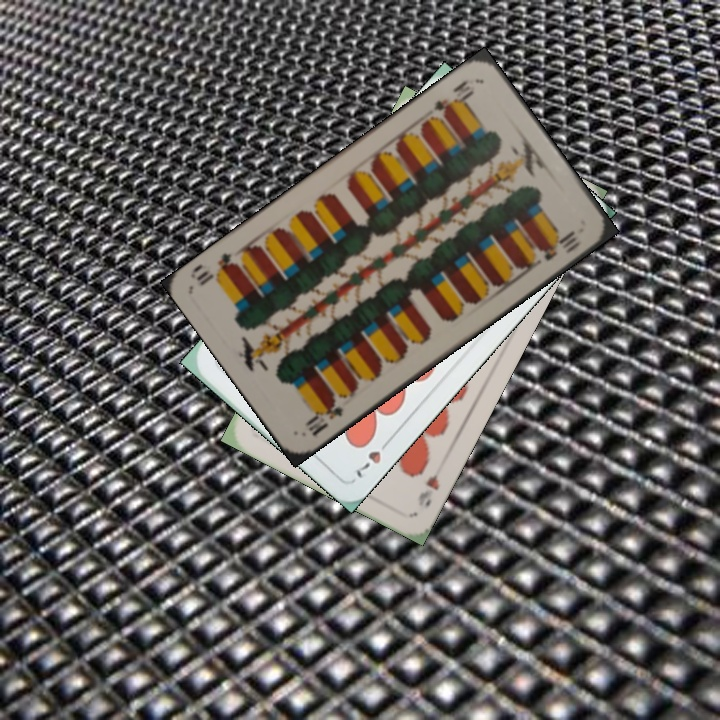E10: (429, 74, 478, 119), (301, 395, 346, 439)
H7: (349, 434, 394, 481)
H9: (414, 459, 447, 509)
